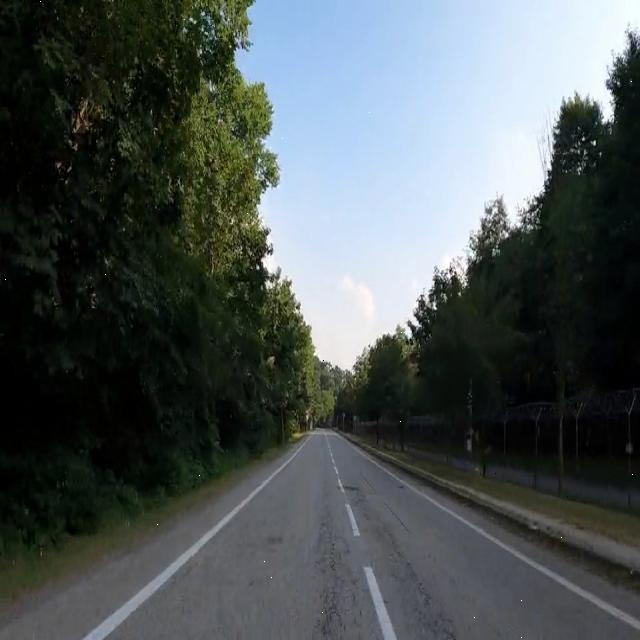lane: (84, 435, 311, 639)
road: (0, 429, 640, 640)
